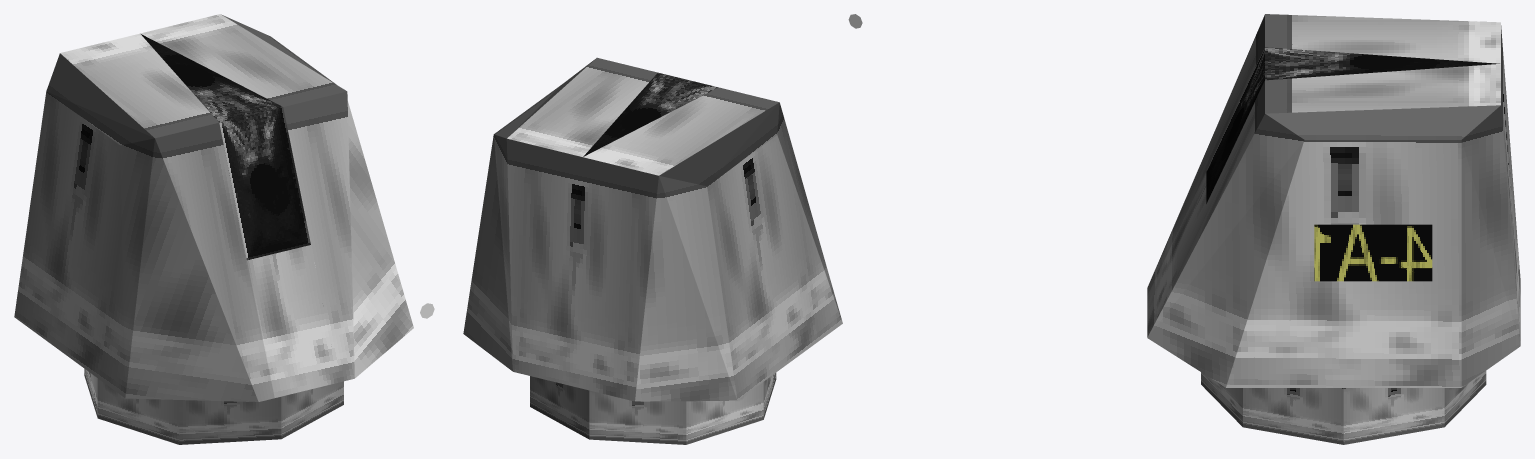
File: primary_050.glb
3 renders of one model, left to right at view 1: azimuth 30°, elevation 25°; view 2: azimuth 150°, elevation 25°; view 3: azimuth 270°, elevation 25°, orthographic. The views are drawn at different scales.
Visible parts, largest first — view 1: Object; view 2: Object; view 3: Object.
Part boxes in pixels (x1,y1,x2,y2): Object: [14, 14, 434, 444]; Object: [463, 14, 862, 444]; Object: [1147, 14, 1520, 444].
Size of the model in its own units: 2.38 by 2.38 by 4.23.
Materials: 20 (20 with a texture image).
